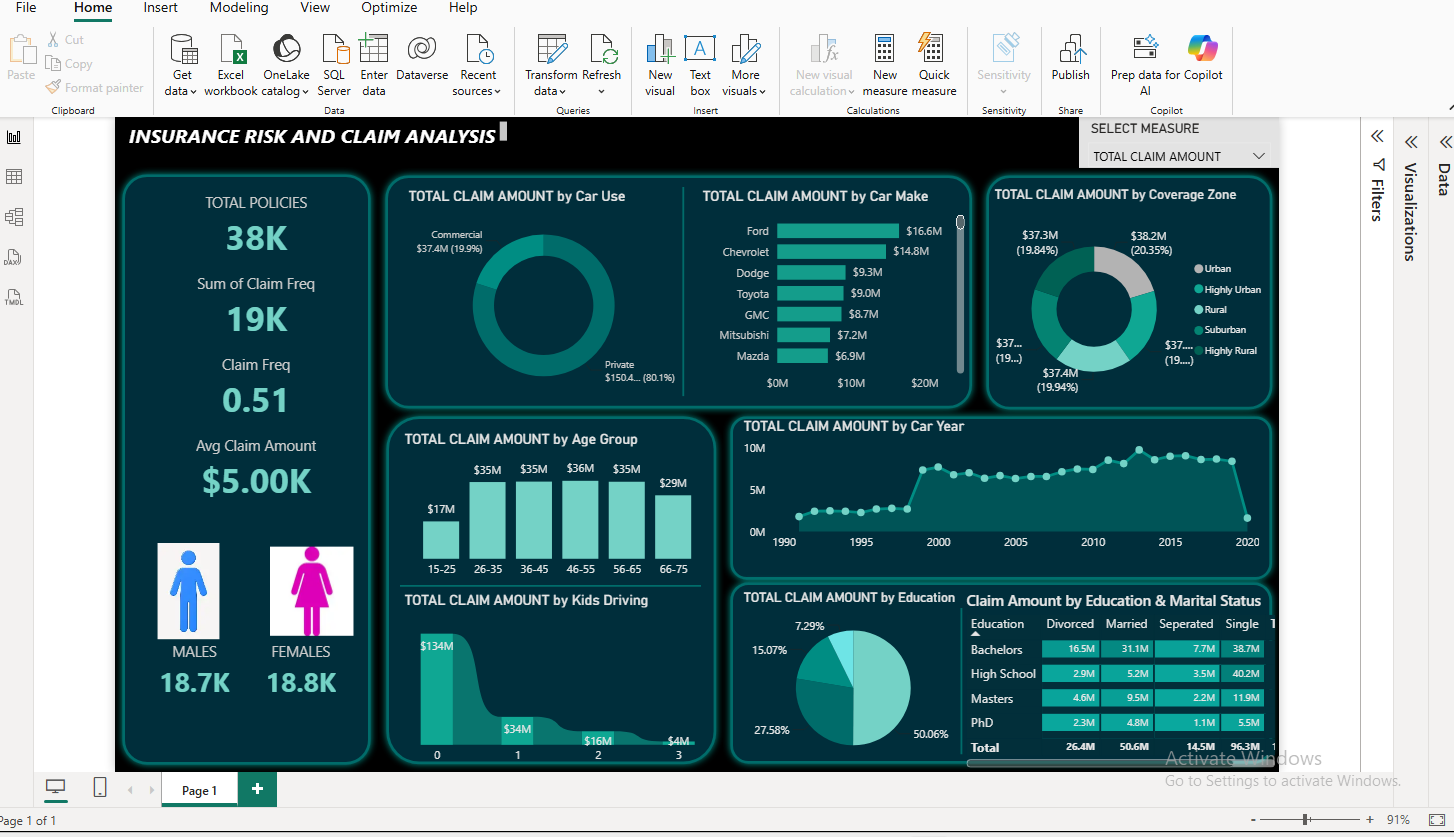

The page's visual inventory and layout, read from the dashboard file:
{"tool":"powerbi","page":{"name":"Page 1","canvas":[1280,720],"ordinal":0},"visuals":[{"type":"textbox","box":[9.6,0,425.9,33.6],"z":0},{"type":"shape","box":[0,55,289.1,665],"z":1000},{"type":"cardVisual","fields":{"Data":["Table1.TOTAL POLICIES","Sum(Table1.Claim Freq)1","Avg(Table1.Claim Freq)","Avg(Table1.Claim Amount)"]},"box":[45.8,64.4,216.6,373.8],"z":2000},{"type":"cardVisual","fields":{"Data":["insurance_data_car.MALE COUNT","insurance_data_car.FEMALE COUNT"]},"box":[19.8,552.1,250.1,110.2],"z":3000},{"type":"image","box":[19.8,467.9,122.6,106.5],"z":4000},{"type":"image","box":[170.8,467.9,91.6,106.5],"z":5000},{"type":"shape","box":[289.1,56.4,661,272.3],"z":6000},{"type":"slicer","fields":{"Values":["SELECT MEASURE.SELECT MEASURE"]},"box":[1059.3,0,220.7,56.4],"z":7000},{"type":"donutChart","fields":{"Y":["Table1.TOTAL CLAIM AMOUNT"],"Category":["Table1.Car Use"]},"box":[317.9,76.8,307.1,242.3],"z":8000},{"type":"shape","box":[581.8,76.8,86.4,230.3],"z":9000},{"type":"clusteredBarChart","fields":{"Y":["Table1.TOTAL CLAIM AMOUNT"],"Category":["Table1.Car Make"]},"box":[640.6,76.8,297.5,233.9],"z":10000},{"type":"shape","box":[289.7,320.6,378.8,398.6],"z":11000},{"type":"shape","box":[668.5,320.6,611.5,195.6],"z":12000},{"type":"shape","box":[668.5,503.8,611.5,215.4],"z":13000},{"type":"shape","box":[949.5,55.7,330.5,273.6],"z":14000},{"type":"donutChart","fields":{"Y":["Table1.TOTAL CLAIM AMOUNT"],"Category":["Table1.Coverage Zone"]},"box":[961.9,76.8,312,252.5],"z":15000},{"type":"clusteredColumnChart","fields":{"Y":["Table1.TOTAL CLAIM AMOUNT"],"Category":["Table1.Age Group"]},"box":[313.1,344.3,346.7,171.5],"z":16000},{"type":"shape","box":[313.1,491.8,331.1,48],"z":17000},{"type":"ribbonChart","fields":{"Y":["Table1.TOTAL CLAIM AMOUNT"],"Category":["Table1.Kids Driving"]},"box":[313.1,520.6,346.7,199.1],"z":18000},{"type":"areaChart","fields":{"Category":["Table1.Car Year"],"Y":["Table1.TOTAL CLAIM AMOUNT"]},"box":[685.8,329.3,576.9,156],"z":18001},{"type":"pieChart","fields":{"Category":["Table1.Education"],"Y":["Table1.TOTAL CLAIM AMOUNT"]},"box":[685.8,519.9,251.3,199.3],"z":18002},{"type":"shape","box":[887.6,539.7,86.7,160.9],"z":18003},{"type":"pivotTable","title":"Claim Amount by Education & Marital Status","fields":{"Columns":["Table1.Marital Status"],"Values":["Table1.TOTAL CLAIM AMOUNT"],"Rows":["Table1.Education"]},"box":[930.9,521.2,349.1,199.3],"z":18004}]}

Visuals, with their boxes on the page's 1280x720 design canvas (x1, y1, x2, y2). These are canvas units, not pixel positions in the 1454x837 screenshot, which may show the page scaled, cropped or inside an application window:
textbox: <box>10,0,436,34</box>
shape: <box>0,55,289,720</box>
cardVisual - Table1.TOTAL POLICIES x Sum(Table1.Claim Freq)1: <box>46,64,262,438</box>
cardVisual - insurance_data_car.MALE COUNT x insurance_data_car.FEMALE COUNT: <box>20,552,270,662</box>
image: <box>20,468,142,574</box>
image: <box>171,468,262,574</box>
shape: <box>289,56,950,329</box>
slicer - SELECT MEASURE.SELECT MEASURE: <box>1059,0,1280,56</box>
donutChart - Table1.TOTAL CLAIM AMOUNT x Table1.Car Use: <box>318,77,625,319</box>
shape: <box>582,77,668,307</box>
clusteredBarChart - Table1.TOTAL CLAIM AMOUNT x Table1.Car Make: <box>641,77,938,311</box>
shape: <box>290,321,668,719</box>
shape: <box>668,321,1280,516</box>
shape: <box>668,504,1280,719</box>
shape: <box>950,56,1280,329</box>
donutChart - Table1.TOTAL CLAIM AMOUNT x Table1.Coverage Zone: <box>962,77,1274,329</box>
clusteredColumnChart - Table1.TOTAL CLAIM AMOUNT x Table1.Age Group: <box>313,344,660,516</box>
shape: <box>313,492,644,540</box>
ribbonChart - Table1.TOTAL CLAIM AMOUNT x Table1.Kids Driving: <box>313,521,660,720</box>
areaChart - Table1.Car Year x Table1.TOTAL CLAIM AMOUNT: <box>686,329,1263,485</box>
pieChart - Table1.Education x Table1.TOTAL CLAIM AMOUNT: <box>686,520,937,719</box>
shape: <box>888,540,974,701</box>
"Claim Amount by Education & Marital Status" pivotTable: <box>931,521,1280,720</box>
